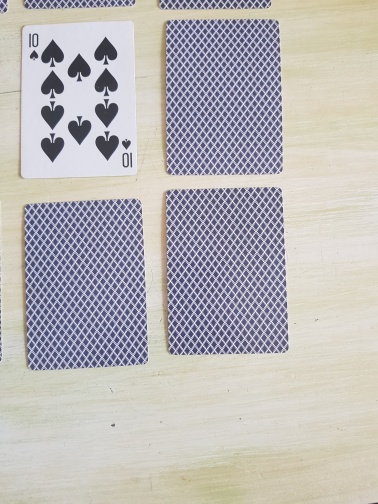ten: (21, 21, 138, 179)
